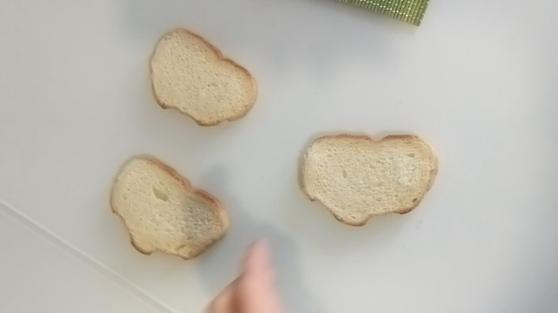white_bread: (305, 129, 436, 229), (111, 156, 229, 258), (144, 26, 260, 128)
